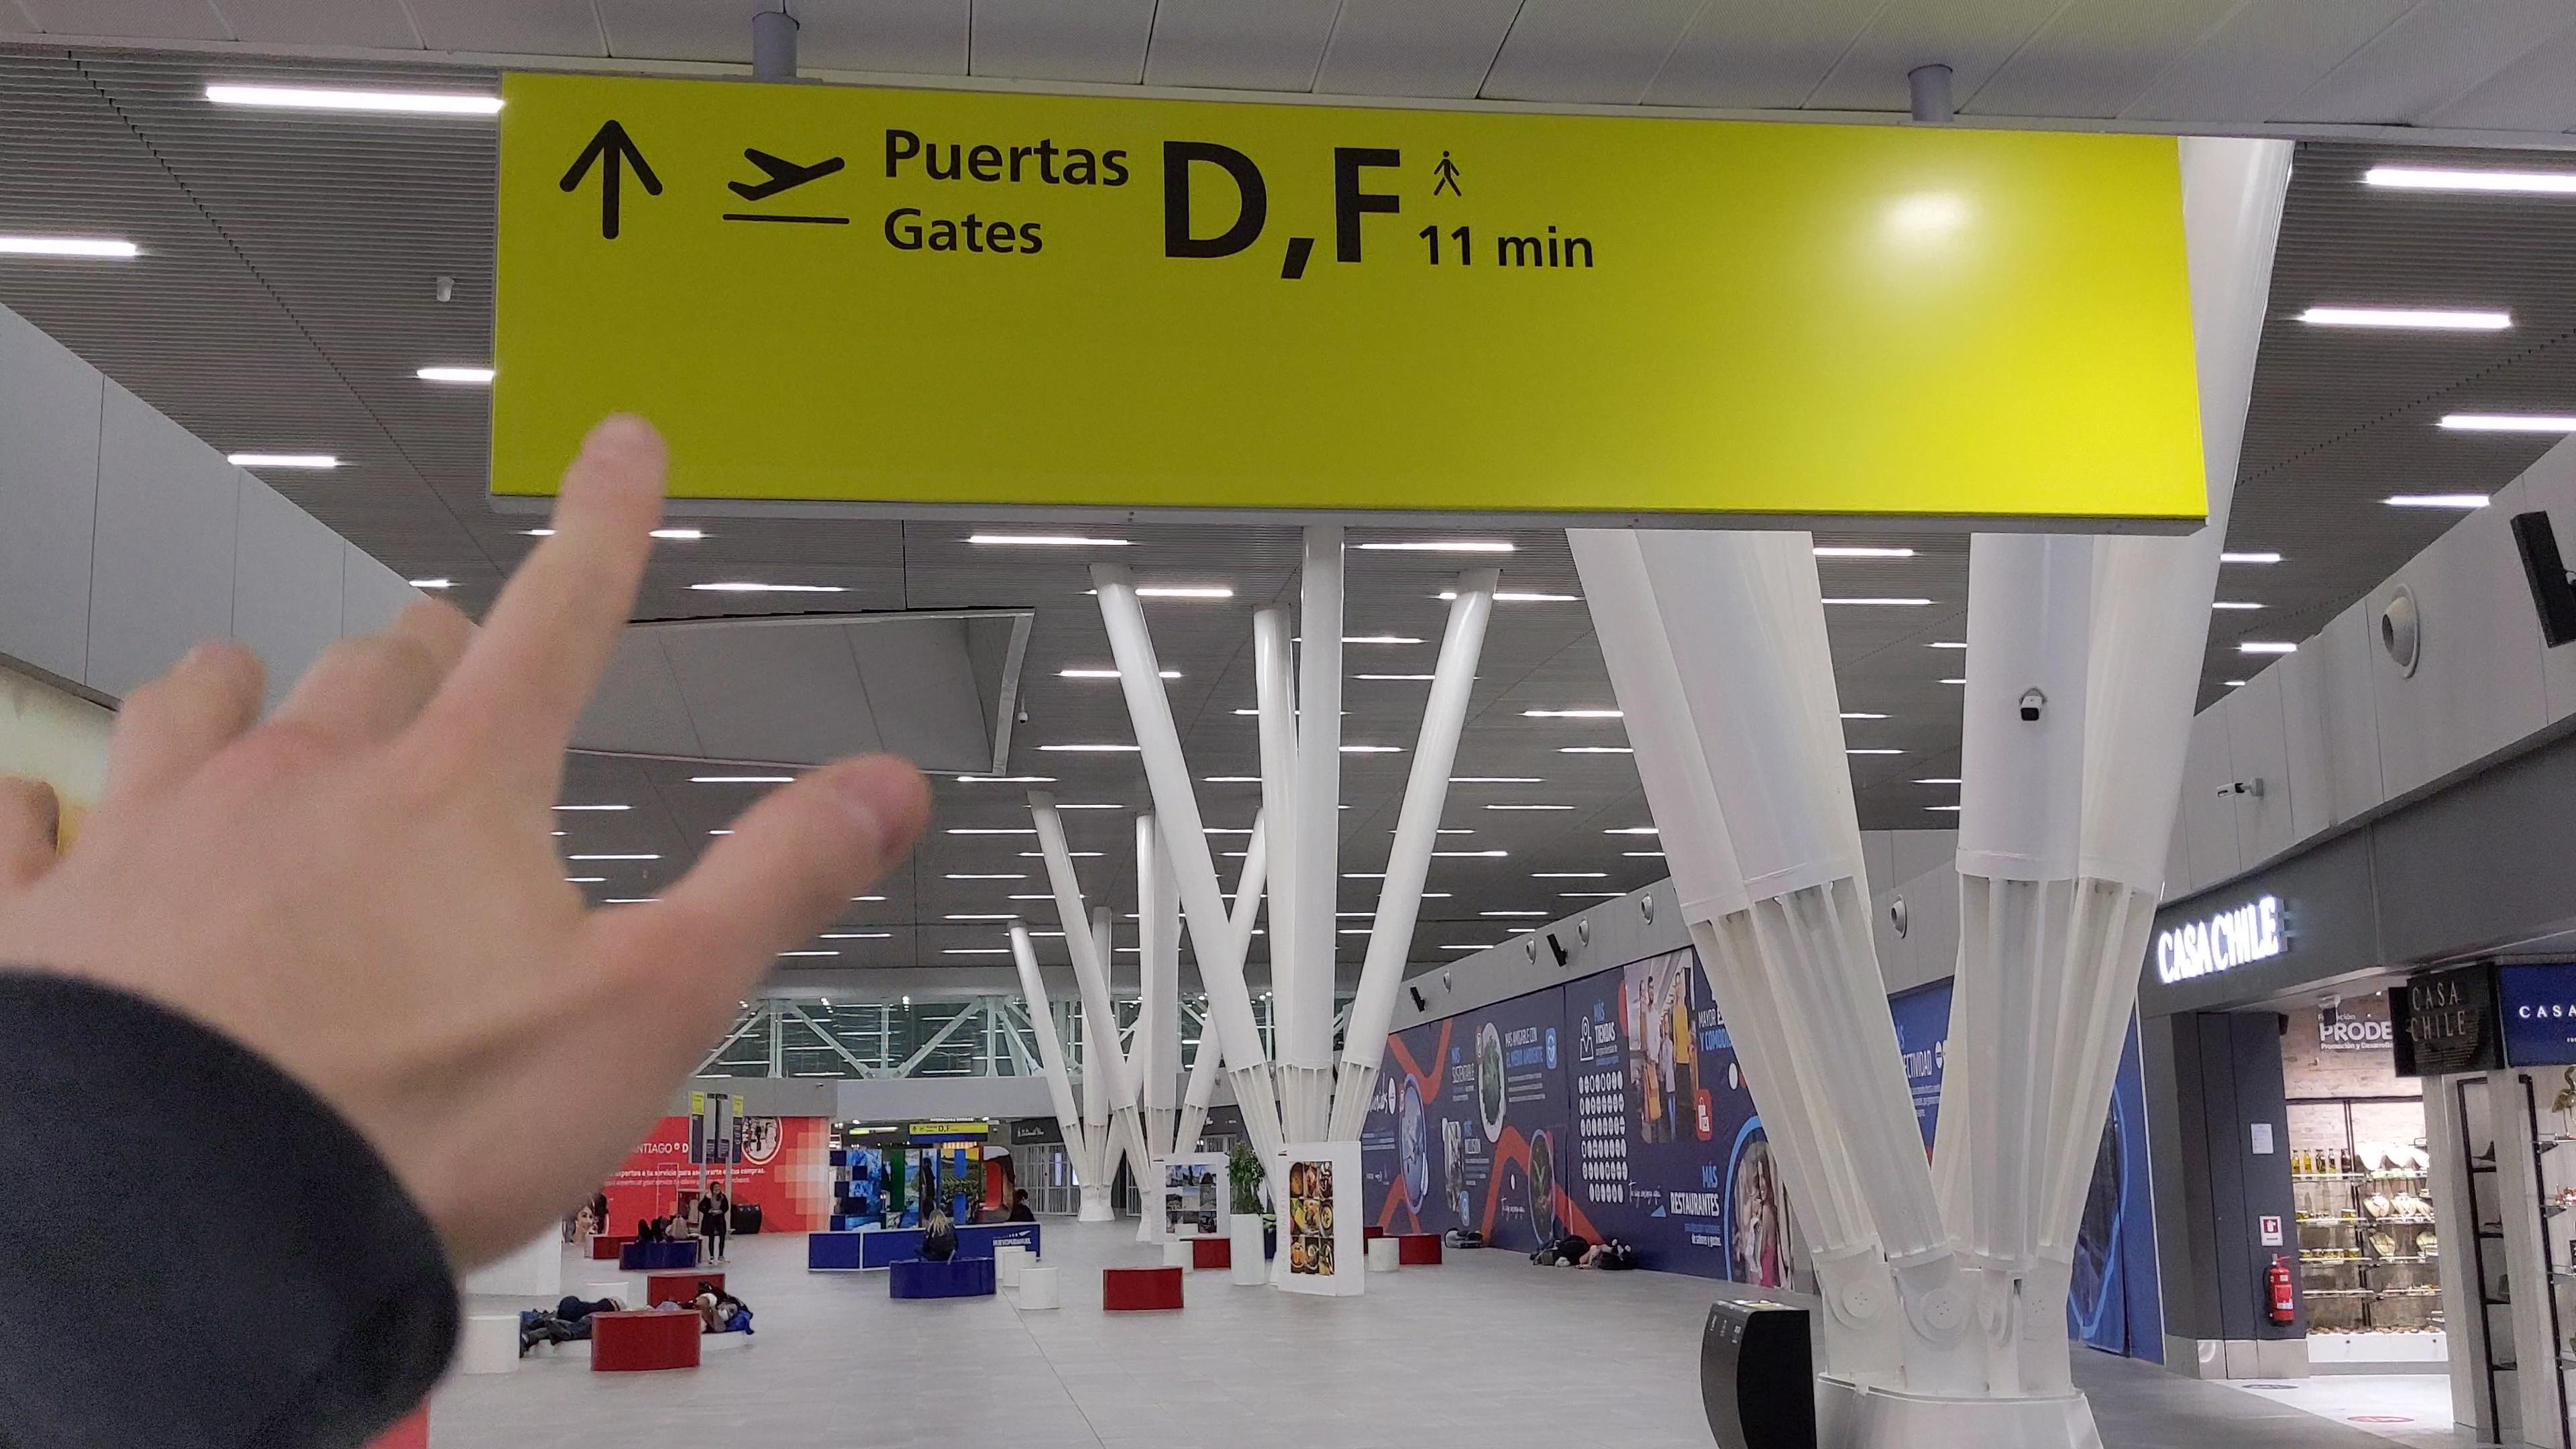airplane symbol: (724, 142, 851, 205)
thin up arrow: (554, 115, 671, 246)
